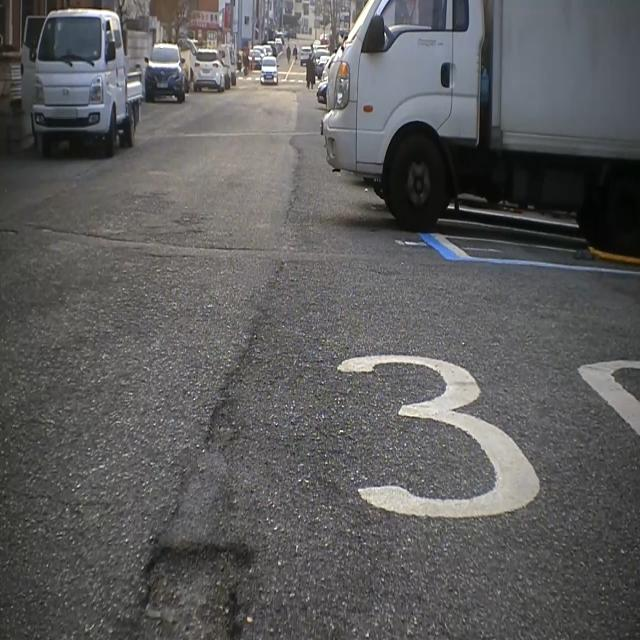Pothole: (131, 515, 290, 640)
